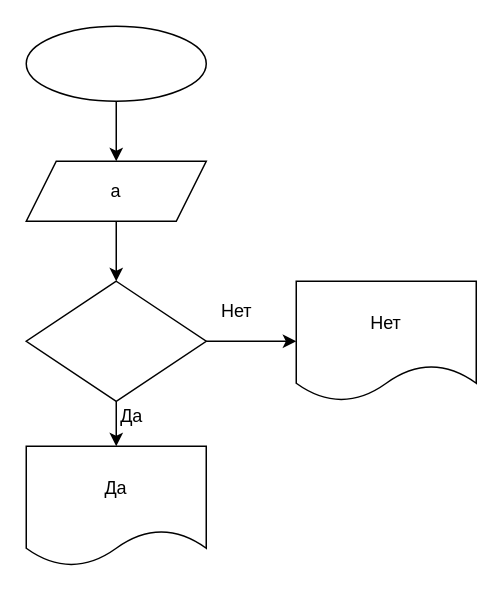
The diagram is 503 pixels wide and 593 high, and some of its shapes have lost their labels. Each missing label, with the centre of its shape:
"a%2 == 0" goes at pixel 115 340.
"начало" goes at pixel 115 63.
